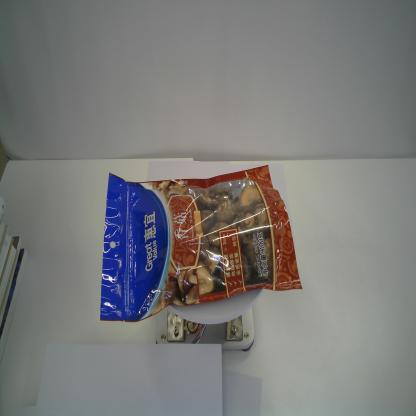Dried Food: (97, 162, 302, 321)
